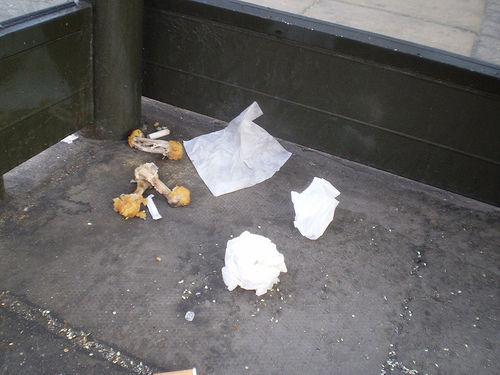litter: (184, 102, 292, 197), (113, 163, 190, 224), (221, 230, 287, 299), (289, 177, 342, 242), (129, 126, 184, 160), (150, 368, 199, 375)
